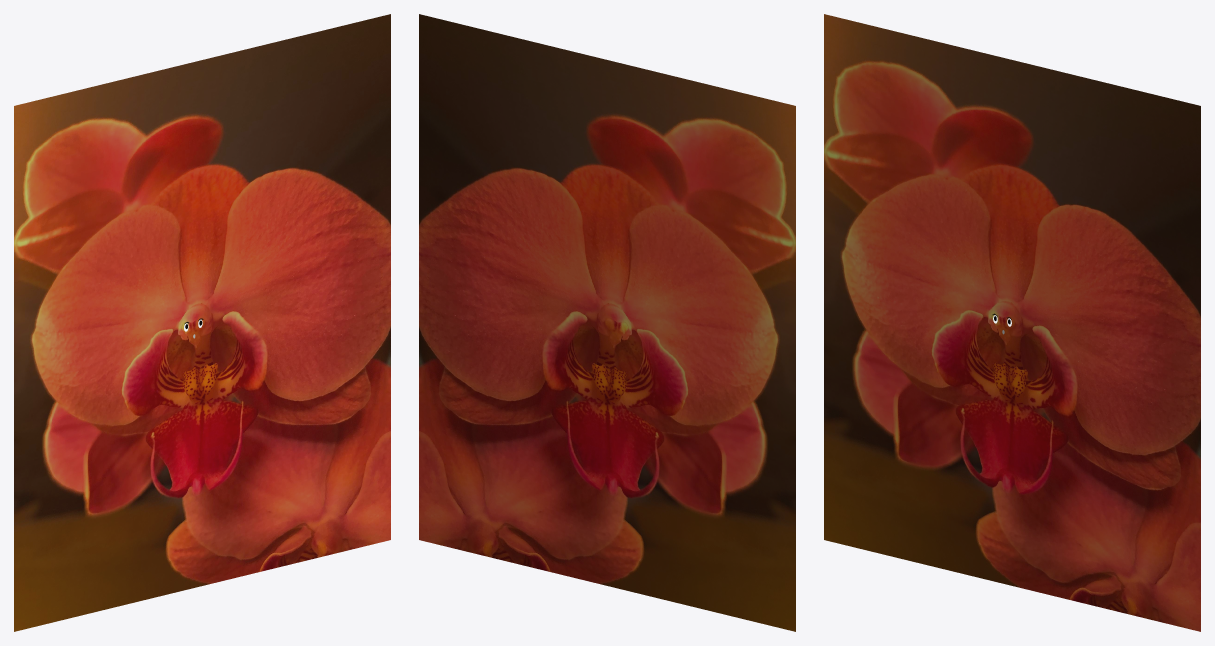
Rendered from orchid-sing.glb.
3 views of the same model, side by side, from view 1: azimuth 30°, elevation 25°; view 2: azimuth 150°, elevation 25°; view 3: azimuth 330°, elevation 25° (orthographic).
Visible parts, largest first — view 1: 241226788_402318781403791_8457803904840417826_n.002; view 2: 241226788_402318781403791_8457803904840417826_n.002; view 3: 241226788_402318781403791_8457803904840417826_n.002.
Part boxes in pixels (<box>): 241226788_402318781403791_8457803904840417826_n.002: <box>14,14,390,631</box>; 241226788_402318781403791_8457803904840417826_n.002: <box>419,14,795,631</box>; 241226788_402318781403791_8457803904840417826_n.002: <box>824,14,1200,631</box>.
Bounding box in the file's own units: 16.41 × 21.88 × 0.0661.
5 materials, 1 textured.
